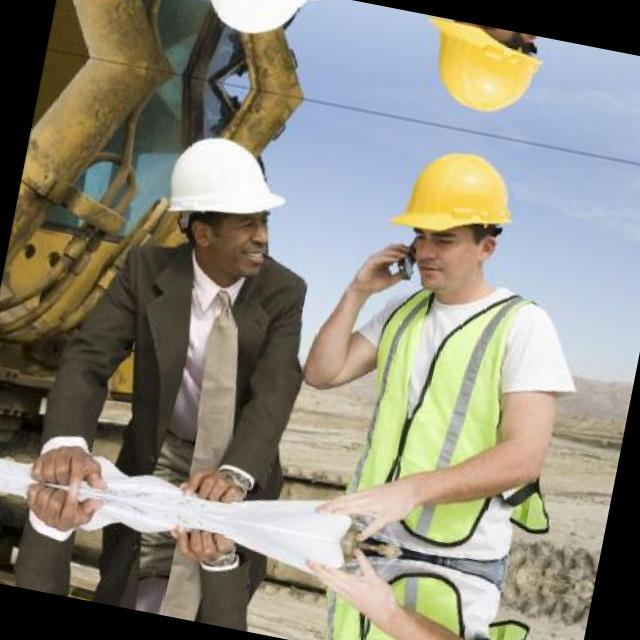helmet: (372, 118, 542, 314), (136, 114, 310, 300), (402, 14, 562, 147), (181, 0, 340, 62)
